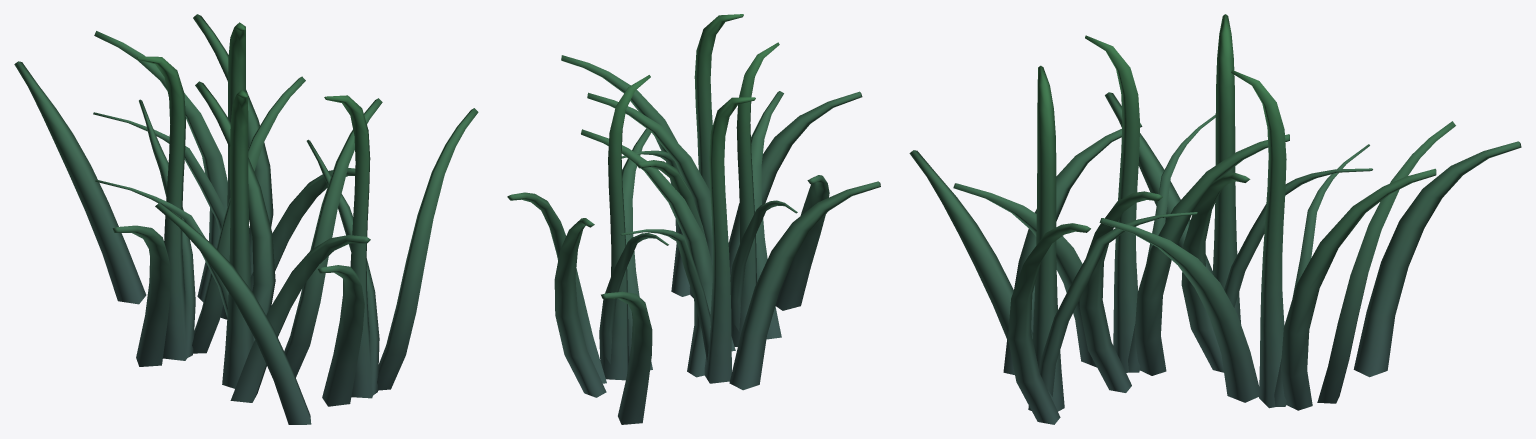
Rendered from Moss_05.fbx.
The picture shows the model from 3 angles, left to right: view 1: azimuth 30°, elevation 25°; view 2: azimuth 150°, elevation 25°; view 3: azimuth 270°, elevation 25°; orthographic projection. The views are drawn at different scales.
Parts seen in each view (by area): view 1: Moss_05; view 2: Moss_05; view 3: Moss_05.
Part boxes in pixels (x1,y1,x2,y2): Moss_05: [14, 14, 478, 424]; Moss_05: [507, 14, 880, 424]; Moss_05: [909, 14, 1521, 424].
Size of the model in its own units: 355 by 297 by 508.
